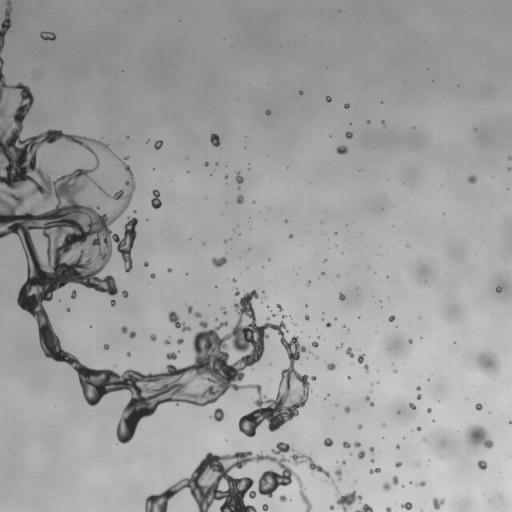droplet: (335, 487, 362, 511), (467, 425, 493, 448), (478, 351, 498, 375), (211, 408, 224, 421), (212, 257, 226, 267), (432, 498, 444, 509), (210, 133, 219, 146), (336, 145, 347, 154), (334, 467, 342, 479), (478, 460, 487, 470), (166, 352, 177, 360), (401, 502, 412, 510), (236, 172, 243, 183), (154, 140, 162, 149), (467, 175, 476, 183), (346, 347, 353, 357), (357, 353, 364, 363), (324, 438, 332, 446), (382, 482, 390, 490), (345, 131, 353, 138), (236, 195, 243, 203), (327, 363, 335, 370), (358, 451, 365, 459), (392, 476, 398, 485), (475, 403, 482, 410), (343, 441, 350, 448), (339, 293, 345, 300), (277, 304, 283, 311), (194, 311, 201, 317), (150, 334, 156, 341), (311, 341, 318, 347), (344, 406, 350, 413), (279, 495, 286, 501), (262, 504, 268, 511), (187, 305, 192, 313), (325, 96, 331, 102), (388, 315, 394, 321), (177, 338, 183, 344), (409, 403, 415, 409), (354, 441, 360, 447), (122, 290, 127, 297), (110, 299, 115, 306), (164, 338, 169, 345), (418, 481, 425, 486), (71, 290, 75, 298), (395, 462, 401, 467), (364, 364, 368, 371), (344, 103, 349, 108), (150, 273, 155, 278), (496, 287, 501, 292), (326, 322, 331, 327), (103, 344, 108, 349), (235, 289, 239, 295), (266, 110, 270, 115), (144, 261, 148, 266), (305, 315, 309, 320), (311, 376, 316, 380), (417, 394, 421, 399), (365, 396, 369, 401), (358, 424, 362, 429), (386, 507, 391, 511), (282, 314, 286, 318), (408, 339, 412, 343), (126, 352, 130, 356), (416, 386, 420, 390), (427, 408, 431, 412), (417, 426, 421, 430), (342, 460, 346, 464), (299, 90, 302, 94), (508, 156, 511, 160), (205, 162, 208, 166), (168, 268, 171, 272), (370, 447, 373, 451), (367, 120, 370, 123), (508, 167, 511, 170), (289, 234, 292, 237), (323, 259, 326, 262), (307, 281, 310, 284), (370, 402, 373, 405), (382, 423, 385, 426), (396, 445, 399, 448), (415, 463, 418, 466), (330, 506, 333, 509), (423, 437, 425, 441), (382, 120, 384, 123), (125, 156, 127, 159), (67, 308, 69, 311), (393, 370, 396, 372), (509, 421, 511, 424), (371, 459, 373, 462), (225, 176, 227, 178), (285, 220, 287, 222), (322, 272, 324, 274), (233, 279, 235, 281), (263, 297, 265, 299), (273, 314, 275, 316), (215, 318, 217, 320), (348, 376, 350, 378), (332, 481, 334, 483)
ligament: (0, 0, 307, 443), (145, 441, 330, 511), (168, 311, 190, 331), (151, 190, 161, 209), (121, 326, 135, 338), (355, 504, 373, 511), (40, 32, 55, 40), (369, 468, 380, 474), (222, 308, 225, 314), (114, 155, 118, 158)
